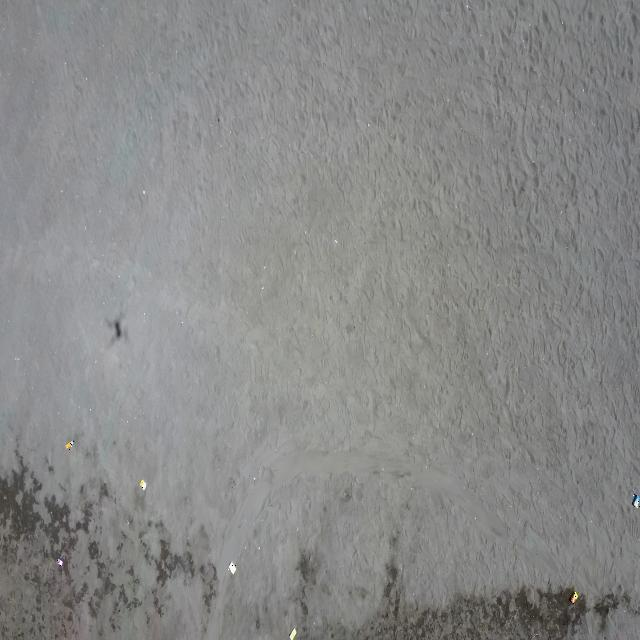Garbage: (569, 591, 579, 603), (632, 493, 639, 507), (55, 555, 63, 567), (64, 440, 74, 449), (289, 627, 296, 639), (228, 563, 235, 572), (138, 479, 144, 489)
